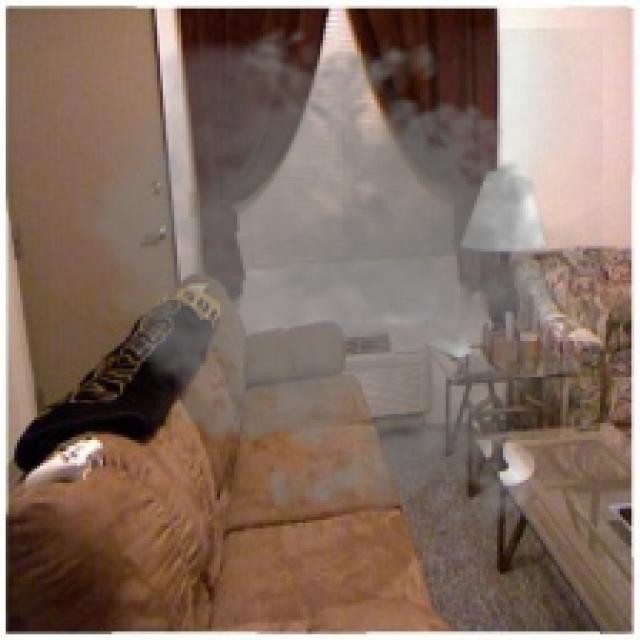smoke: (51, 17, 603, 543)
